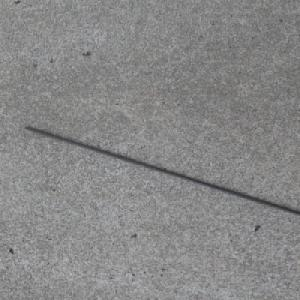LuggagePart: (21, 125, 300, 216)
